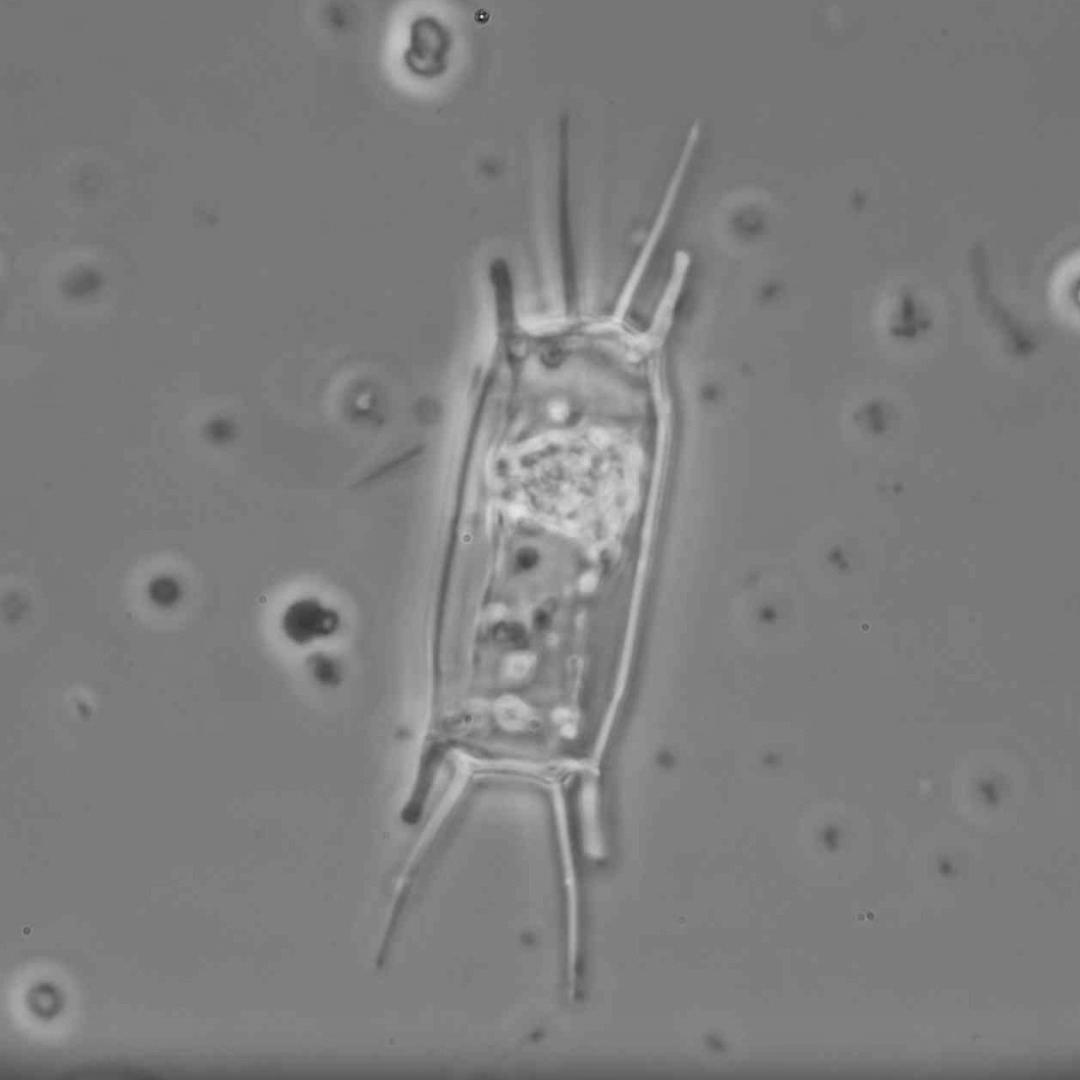odontella_mobiliensis: (377, 114, 698, 996)
